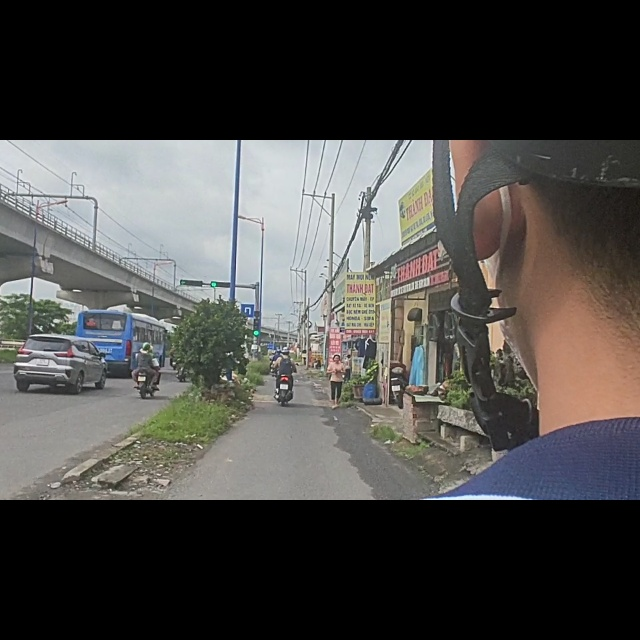bien_chi_dan: (242, 289, 256, 316)
